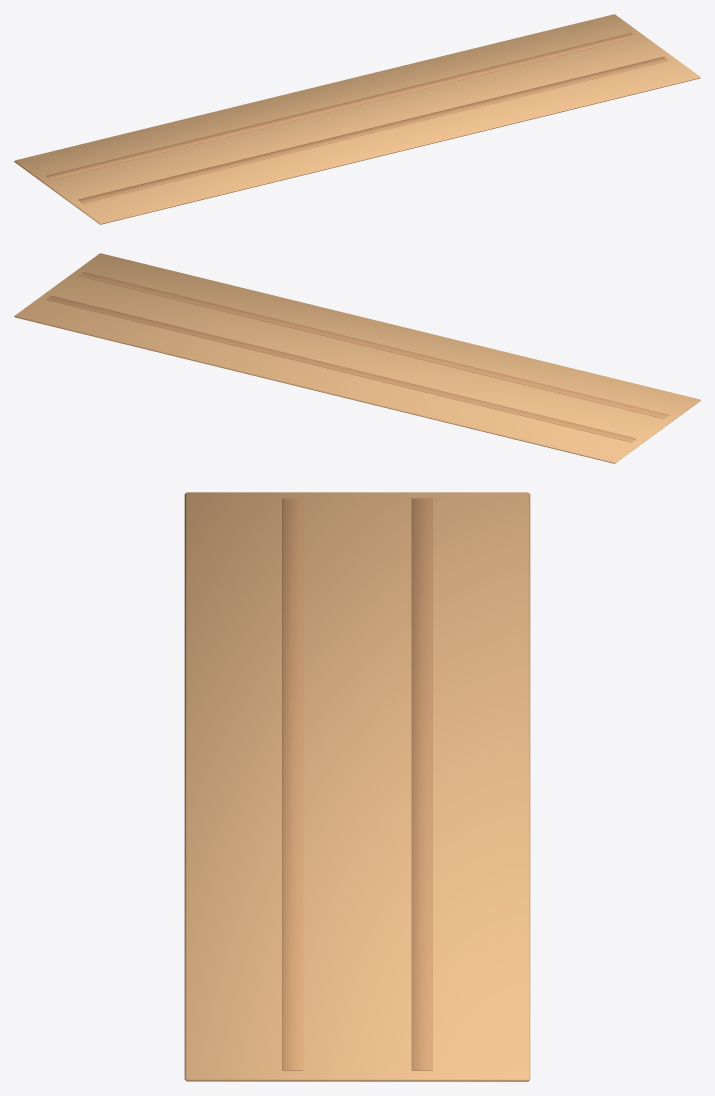
The model's file is street-dust.glb.
3 views of the same model, one above another, from view 1: azimuth 30°, elevation 25°; view 2: azimuth 150°, elevation 25°; view 3: azimuth 270°, elevation 25° (orthographic). The views are drawn at different scales.
Visible parts, largest first — view 1: Cube, Cube.001; view 2: Cube, Cube.001; view 3: Cube, Cube.001.
Part boxes in pixels (x1,y1,x2,y2): Cube: (14,14,700,224); Cube.001: (46,33,668,203); Cube: (14,253,700,463); Cube.001: (46,272,668,442); Cube: (184,492,530,1081); Cube.001: (282,498,432,1070).
Size of the model in its own units: 3.86 by 0.015 by 0.9601.
